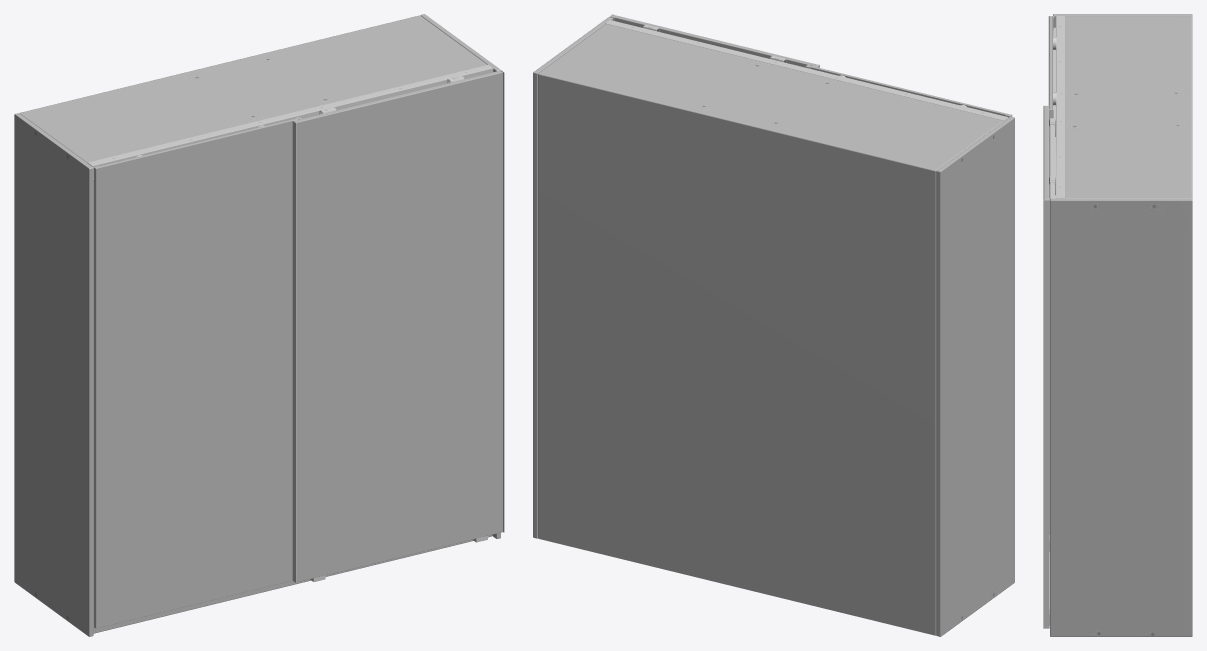
Rendered from wardrobe-sliding.glb.
The picture shows the model from 3 angles, left to right: view 1: azimuth 30°, elevation 25°; view 2: azimuth 150°, elevation 25°; view 3: azimuth 270°, elevation 25°; orthographic projection. The views are drawn at different scales.
Visible parts, largest first — view 1: RootNode; view 2: RootNode; view 3: RootNode.
Boxes of the visible parts, <box> form: RootNode: <box>14,14,504,636</box>; RootNode: <box>533,14,1014,636</box>; RootNode: <box>1043,14,1192,636</box>.
Bounding box in the file's own units: 1.8 × 1.97 × 0.61.
Materials: 1 (1 with a texture image).
